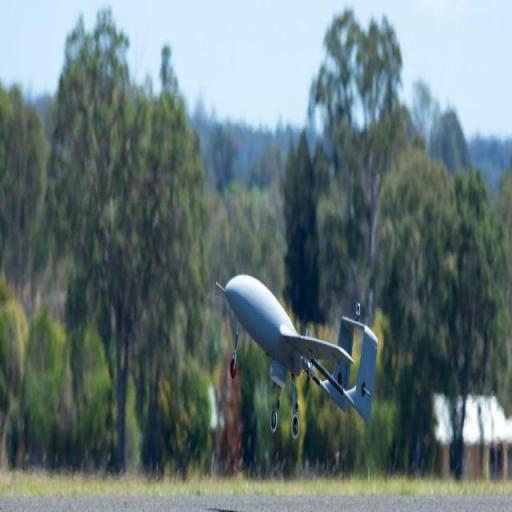uav: (212, 249, 380, 458)
